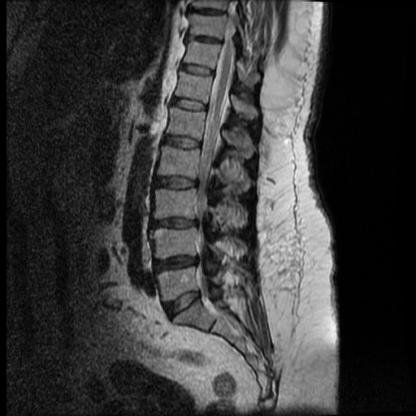Degenerative Disc Diseaserotation: (156, 253, 199, 276)
Disc Bulgerotation: (162, 292, 205, 319), (152, 214, 198, 239), (156, 253, 199, 276), (157, 173, 197, 194), (163, 134, 203, 154)
